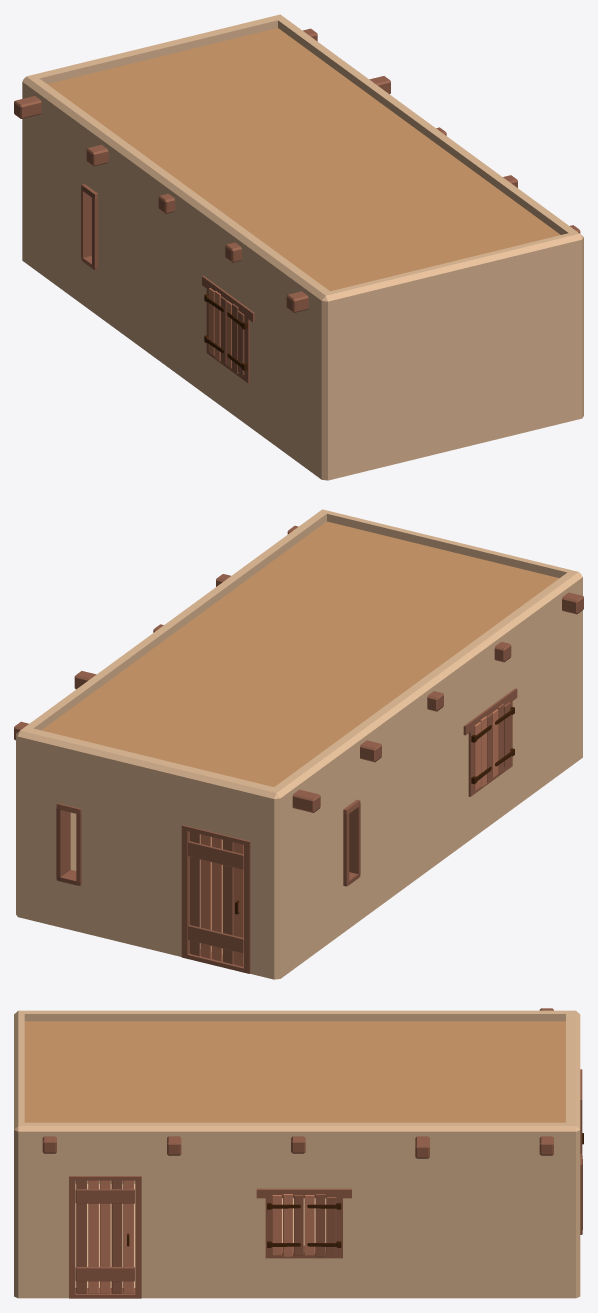
File: Medium Building B.fbx
The picture shows the model from 3 angles, top to bottom: view 1: azimuth 30°, elevation 25°; view 2: azimuth 150°, elevation 25°; view 3: azimuth 270°, elevation 25°; orthographic projection. The views are drawn at different scales.
Visible parts, largest first — view 1: Medium Building B; view 2: Medium Building B; view 3: Medium Building B.
Part boxes in pixels (box(x1,y1,x2,y2)): Medium Building B: box(14, 14, 583, 480); Medium Building B: box(14, 509, 583, 979); Medium Building B: box(14, 1008, 583, 1298).
Size of the model in its own units: 571 by 328 by 995.
